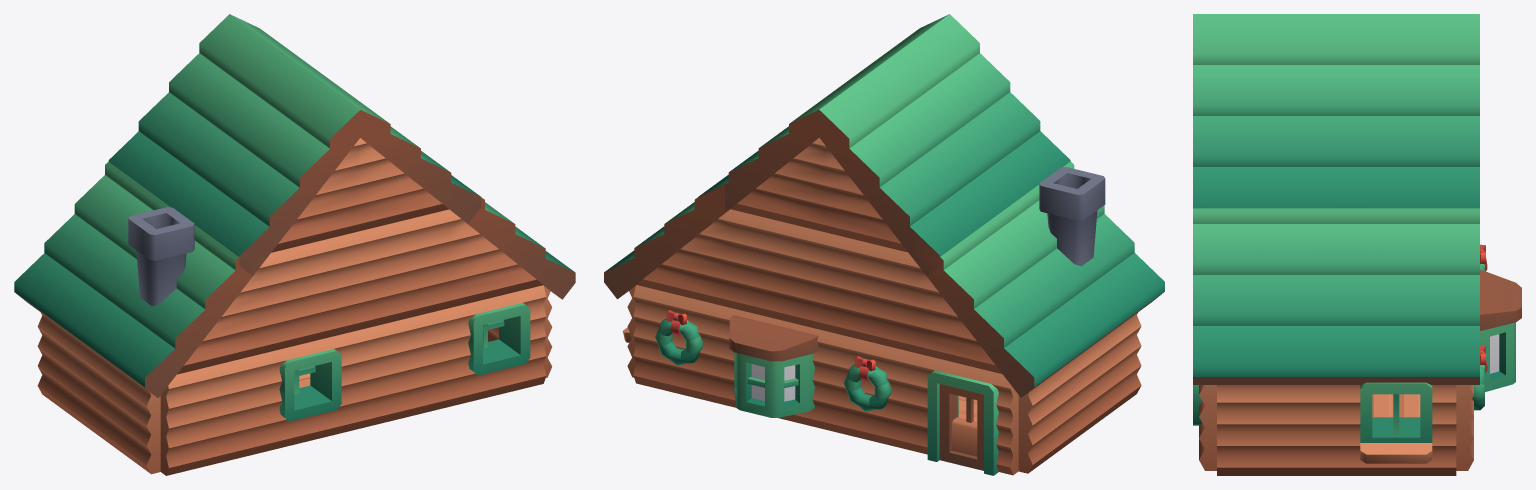
The model's file is casa_navidad_grande.glb.
3 renders of one model, left to right at view 1: azimuth 30°, elevation 25°; view 2: azimuth 150°, elevation 25°; view 3: azimuth 270°, elevation 25°, orthographic. The views are drawn at different scales.
Parts seen in each view (by area): view 1: cabin-roof (×5), cabin-wall (×7), cabin-window-a (×2), cabin-roof-chimney, cabin-wall-roof (×4); view 2: cabin-roof (×6), cabin-wall (×4), cabin-wall-wreath (×2), cabin-wall-roof (×4), cabin-roof-chimney, cabin-door-rotate, cabin-window-large, cabin-window-b; view 3: cabin-roof (×4), cabin-wall, cabin-window-b, cabin-window-large, cabin-wall-wreath, cabin-window-a, floor-wood.
Boxes of the visible parts, x1,y1,x2,y2 form: cabin-roof (×5): (14, 14, 575, 356); cabin-wall (×7): (37, 209, 552, 475); cabin-window-a (×2): (260, 285, 546, 452); cabin-roof-chimney: (68, 201, 265, 398); cabin-wall-roof (×4): (177, 138, 543, 374); cabin-roof (×6): (604, 14, 1108, 397); cabin-wall (×4): (727, 209, 1141, 473); cabin-wall-wreath (×2): (633, 285, 918, 452); cabin-wall-roof (×4): (636, 138, 1001, 373); cabin-roof-chimney: (995, 161, 1164, 347); cabin-door-rotate: (916, 354, 1018, 475); cabin-window-large: (727, 308, 824, 429); cabin-window-b: (622, 285, 635, 377); cabin-roof (×4): (1193, 14, 1479, 384); cabin-wall: (1217, 385, 1336, 475); cabin-window-b: (1336, 382, 1456, 475); cabin-window-large: (1480, 269, 1521, 391); cabin-wall-wreath: (1456, 345, 1487, 470); cabin-window-a: (1193, 385, 1216, 470); floor-wood: (1372, 394, 1420, 413).
Size of the model in its own units: 4.63 by 3.28 by 2.75.
Materials: 40 (40 with a texture image).
